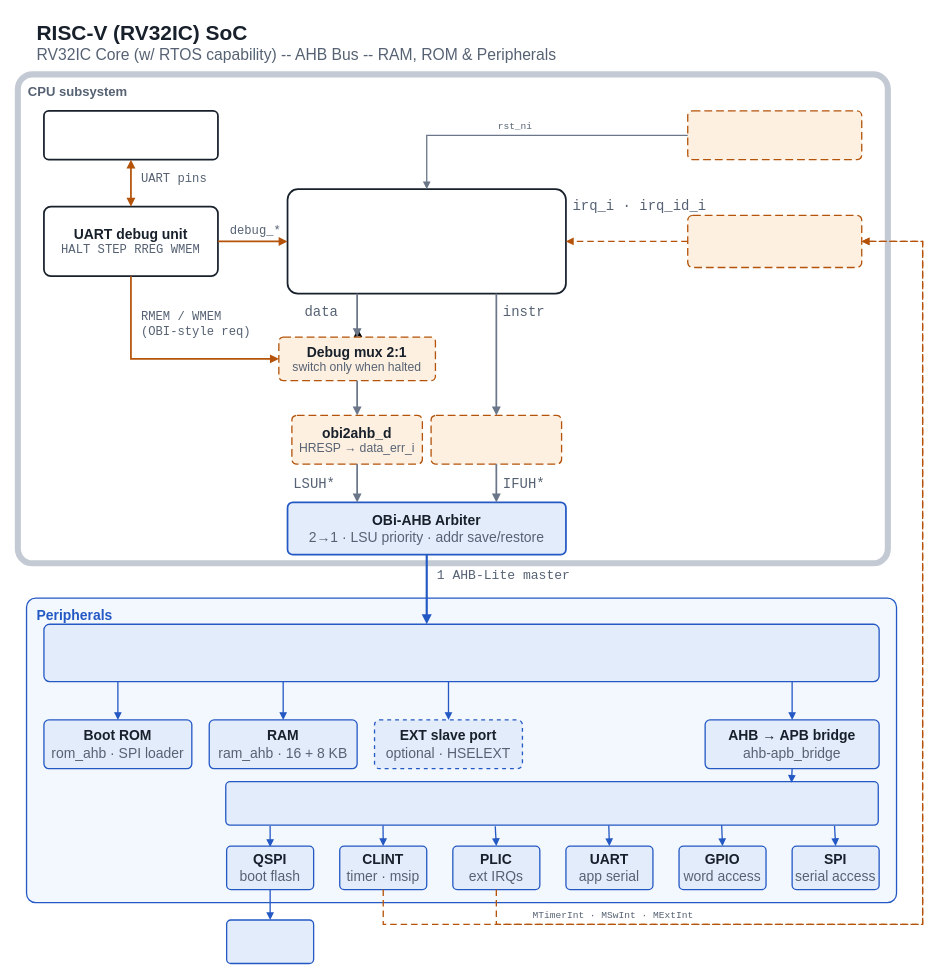
Some shapes in this 945 by 979 pixel diagram are drawn without their labels. Here are the shapes that lost their labels. From the top down, the centre of each, then its label:
At point (130, 135): "Host PC dbg script · USB-UART".
At point (774, 135): "Reset sync → rst_ni · HRESETn".
At point (426, 241): "RV32IC Core RV32IC · Zicsr · 2-stage · frozen".
At point (774, 241): "IRQ encoder MEI→11 · MSI→3 · MTI→7".
At point (496, 439): "obi2ahb_i registers address".
At point (461, 652): "Address decoder (adrdecs) HSEL per region · HRDATA / HREADY / HRESP mux".
At point (552, 803): "APB PSEL per peripheral · PSTRB ← HWSTRB".
At point (270, 941): "SDC ext. flash".
